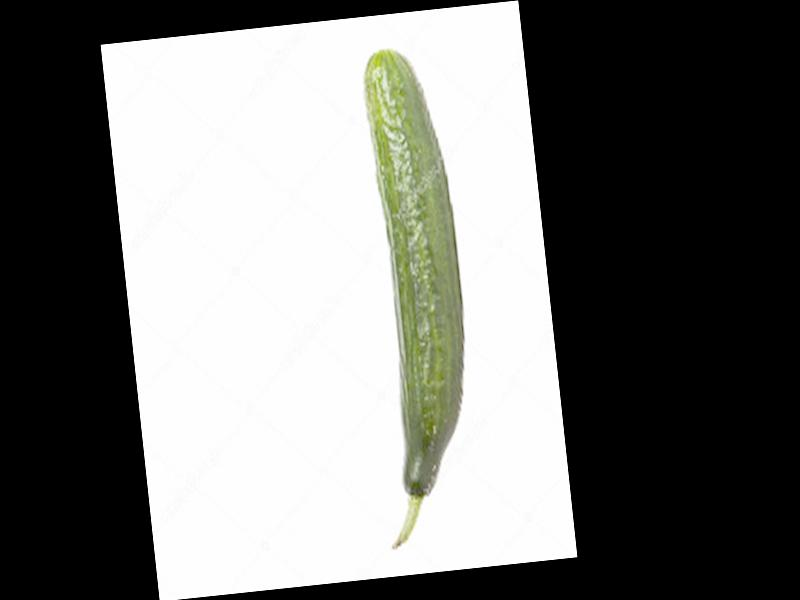Cucumber: (340, 46, 486, 552)
